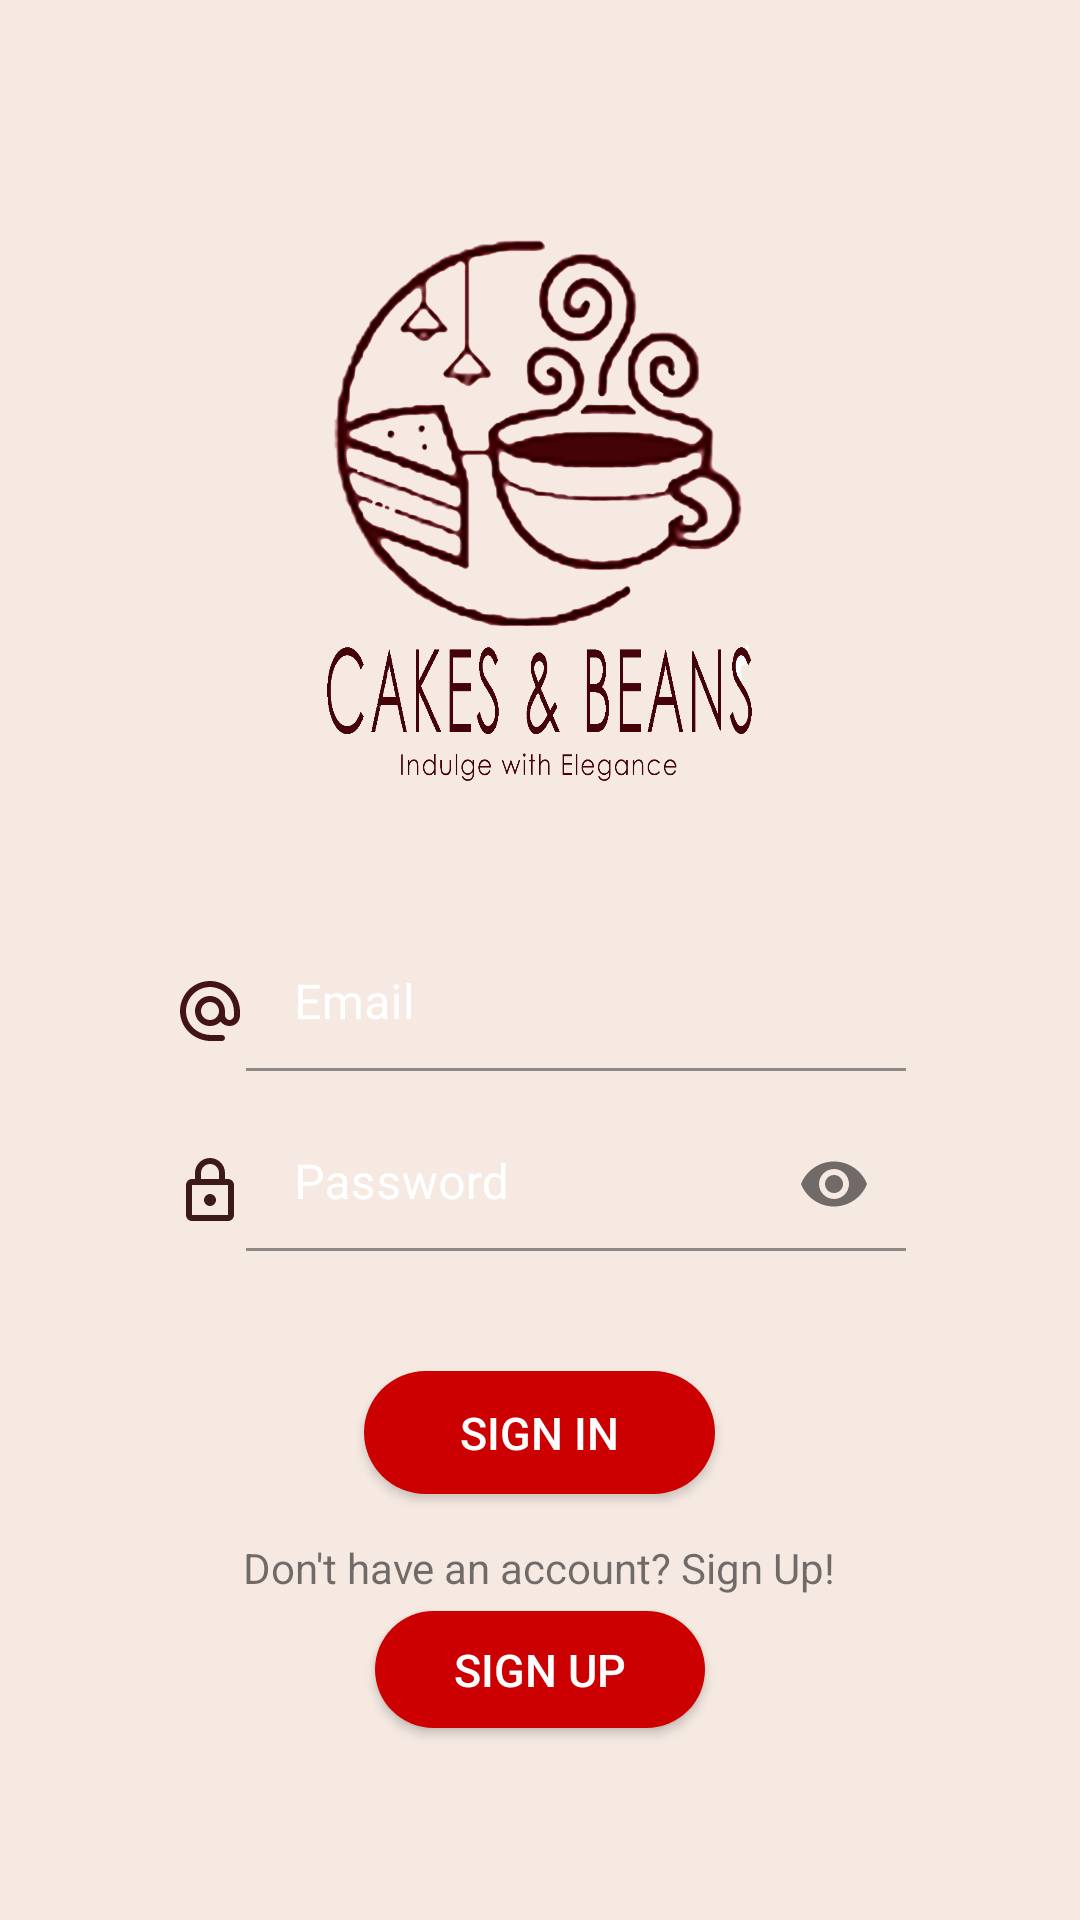

Icon bounding boxes for this 1080w x 1920h phone screenshot, format (x1, y1, x2, y2):
lock: (186, 1158, 234, 1221)
